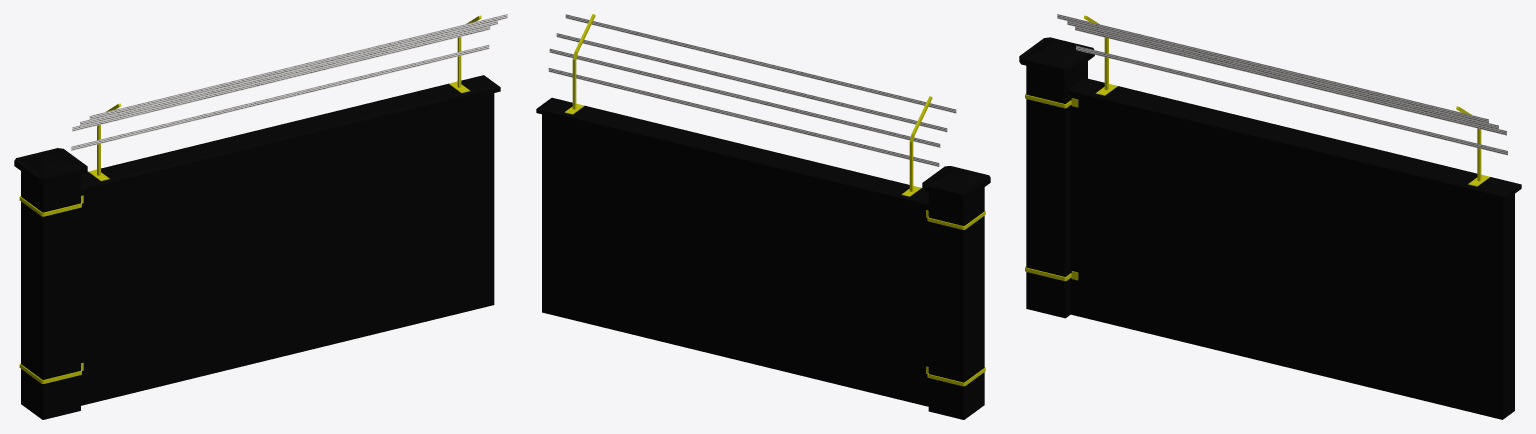
Rendered from WallEnd.fbx.
The picture shows the model from 3 angles, left to right: view 1: azimuth 30°, elevation 25°; view 2: azimuth 150°, elevation 25°; view 3: azimuth 330°, elevation 25°; orthographic projection. The views are drawn at different scales.
Parts seen in each view (by area): view 1: Wall_Post; view 2: Wall_Post; view 3: Wall_Post.
Part boxes in pixels (<box>): Wall_Post: <box>14,14,507,419</box>; Wall_Post: <box>536,14,990,419</box>; Wall_Post: <box>1019,14,1521,419</box>.
Size of the model in its own units: 6.69 by 4.21 by 0.8795.
